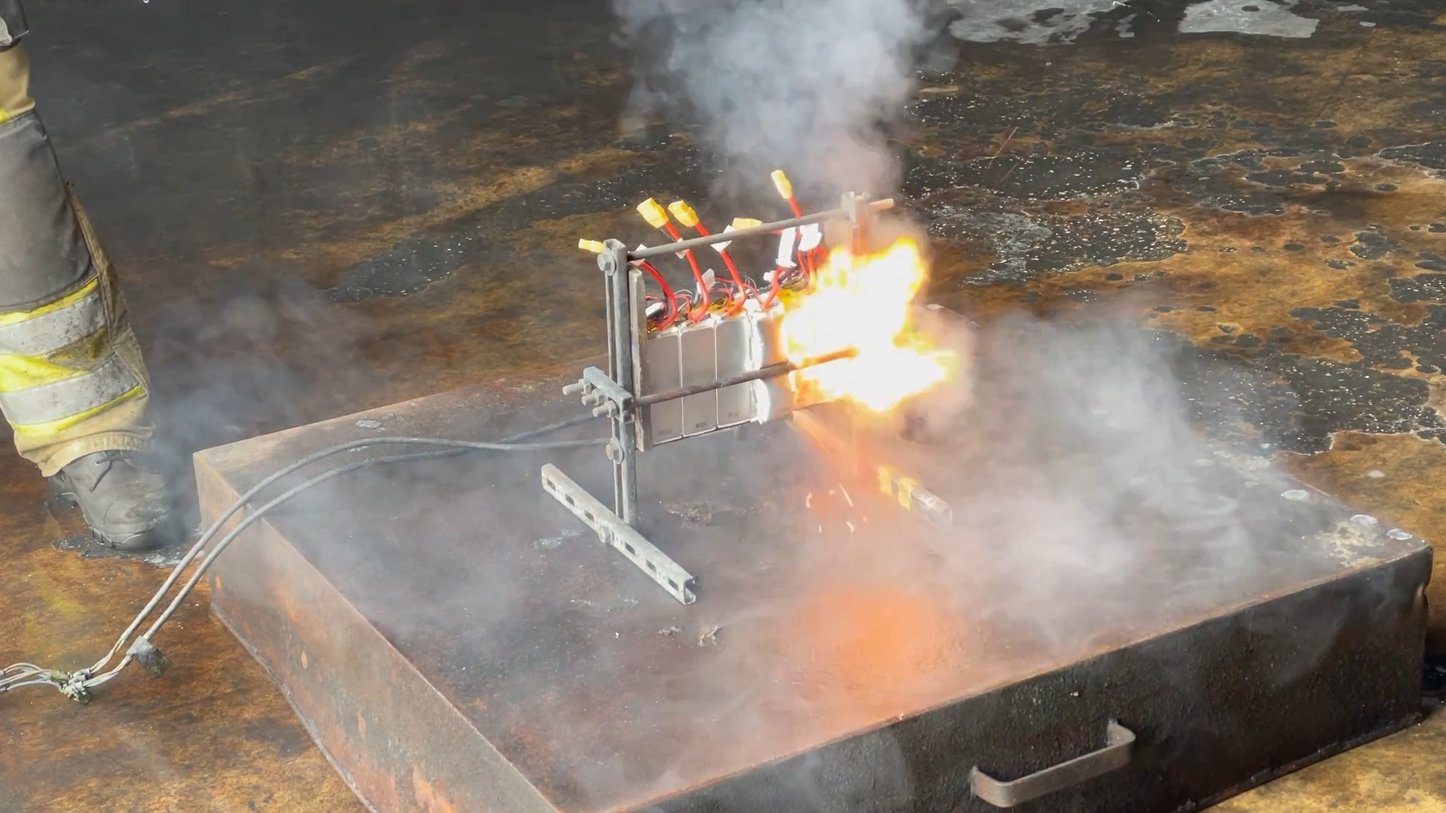fire: (764, 221, 966, 422)
smoke: (134, 281, 596, 697), (905, 295, 1322, 617), (606, 0, 938, 247)
